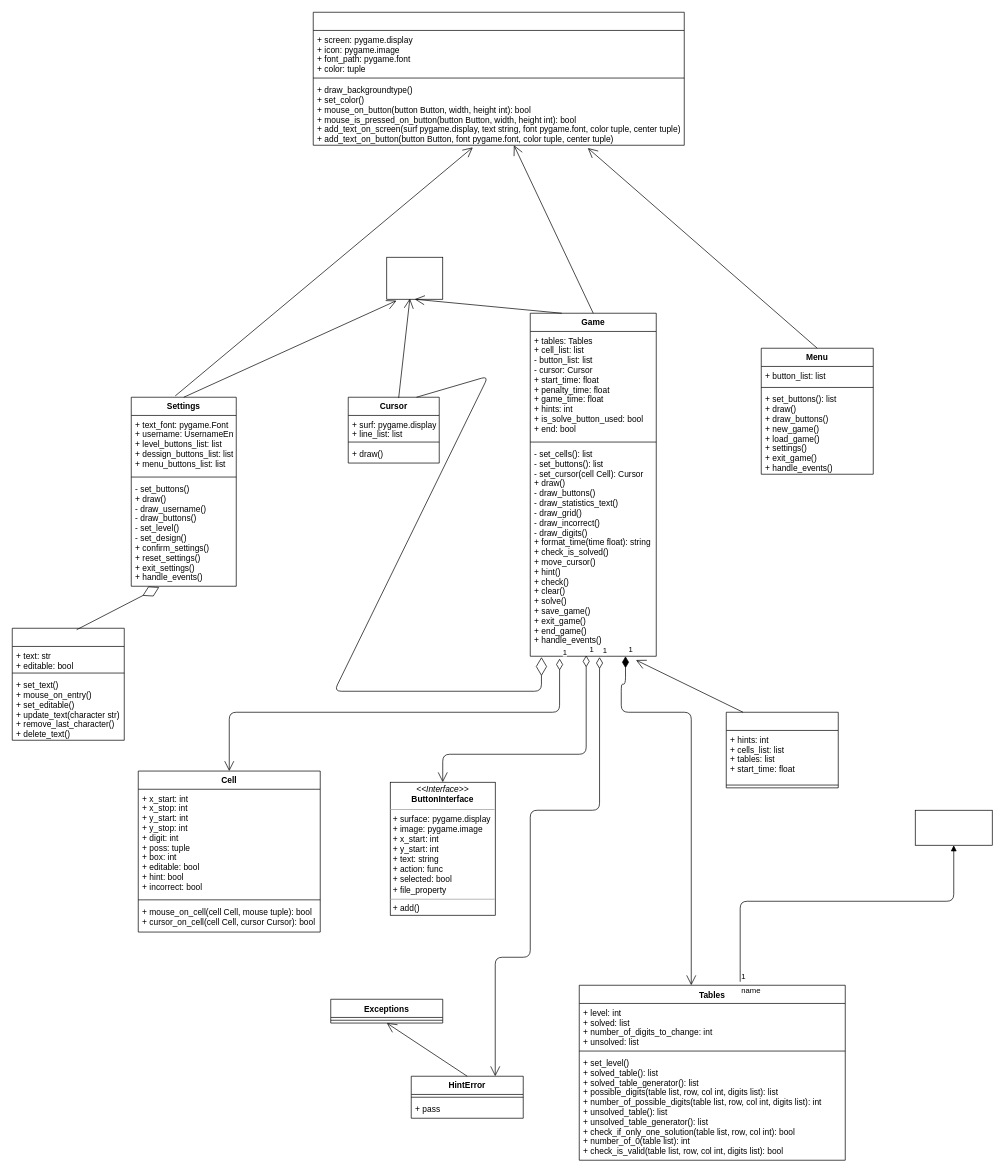
The diagram is 1005 pixels wide and 1175 high, and some of its shapes have lost their labels. Here are the shapes that lost their labels. From the top down, the box of each, then its label:
(313, 12, 684, 145): Surface
(386, 257, 443, 299): <<abstract>> Painter + draw()
(12, 628, 124, 740): UsernameEntry
(726, 712, 838, 788): LoadedGame
(915, 810, 992, 845): «MetaClass» SingletonMeta
